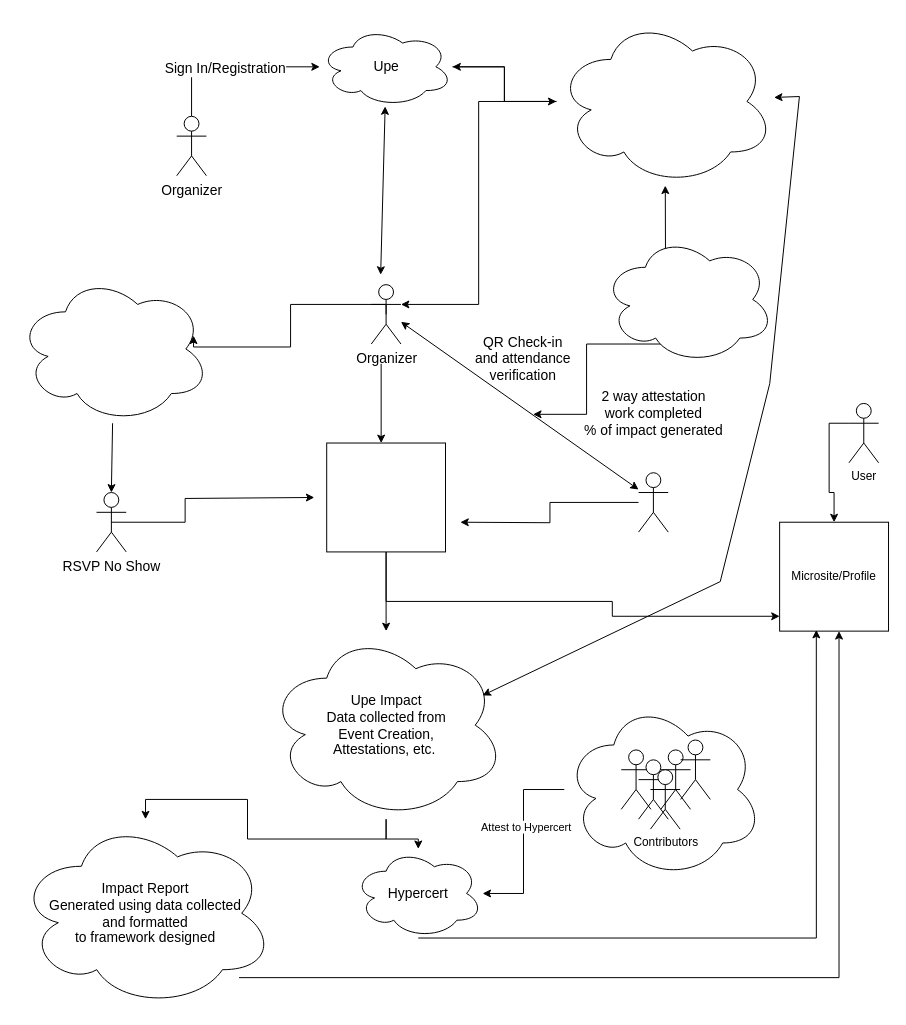
This 906x1025 diagram has some shape labels left out. Here are the shapes that lost their labels. From the top down, the box of each, then its label:
(555, 16, 774, 186): 3rd web engine address generation, account abstraction, etc.
(601, 234, 774, 364): EAS Attestations
(16, 274, 210, 423): EAS Attestation 1 way track reputation, no show, etc.
(326, 442, 446, 552): Impact Event
(638, 472, 668, 532): RSVP & Contributes
